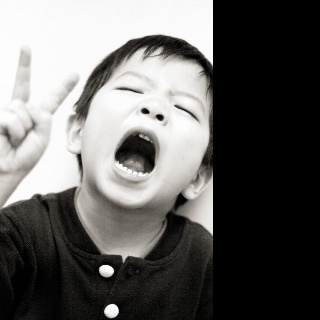without_mask: (79, 44, 209, 209)
